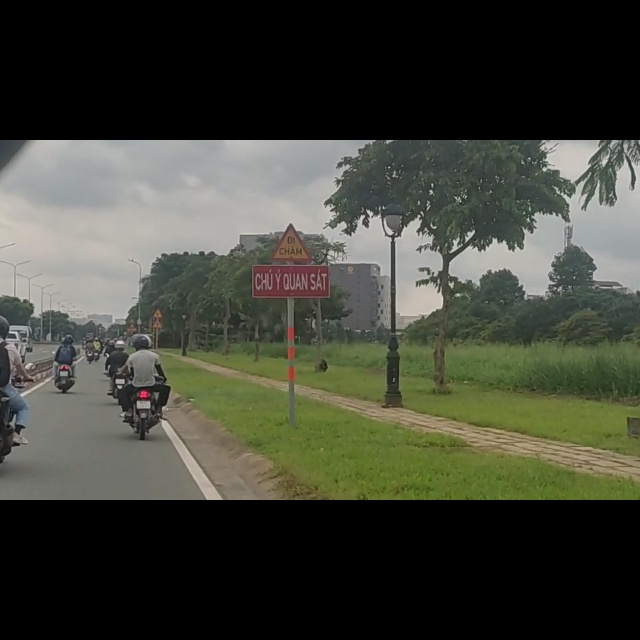bien_nguy_hiem: (271, 146, 313, 216), (153, 297, 163, 314), (151, 319, 163, 333)
